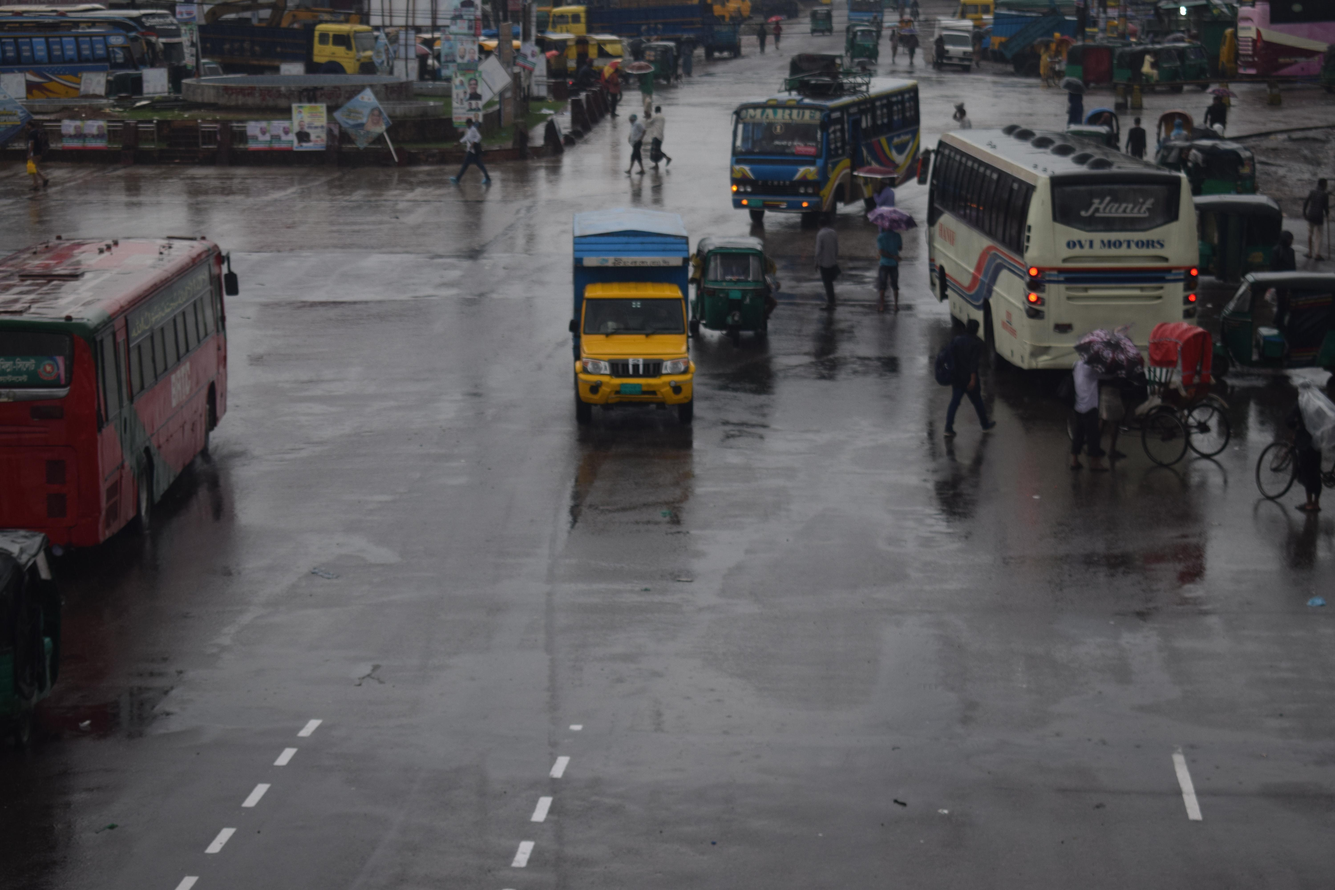Bus: (0, 200, 306, 595), (893, 99, 1224, 412), (711, 71, 939, 252), (0, 0, 216, 134), (1218, 0, 1335, 93)
Car: (1051, 312, 1249, 488)
Truck: (538, 190, 724, 462), (178, 0, 396, 89), (533, 0, 718, 77)
